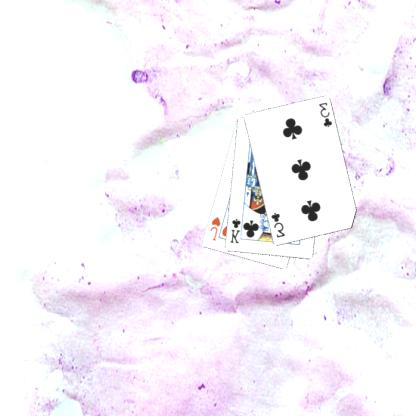3C: (270, 210, 288, 239), (318, 100, 335, 128)
JH: (209, 214, 224, 242)
KC: (229, 214, 246, 244)
